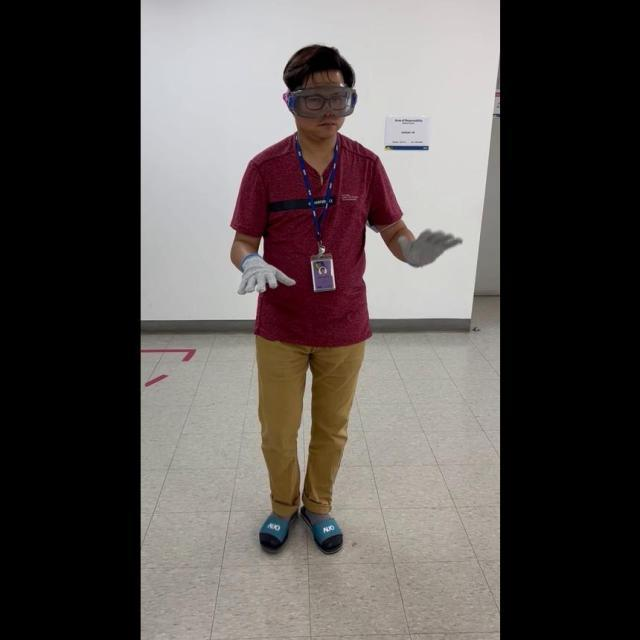gloved_hand: (397, 220, 461, 270), (234, 248, 293, 299)
